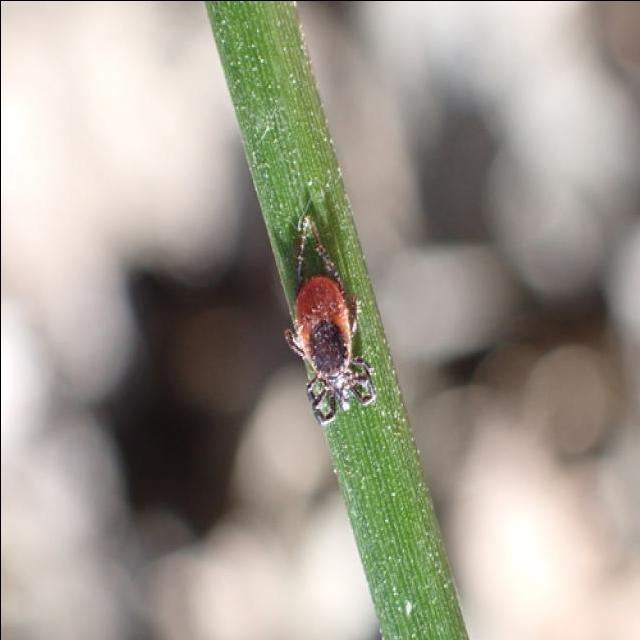Ixodes Ricinus-F: (283, 212, 375, 423)
